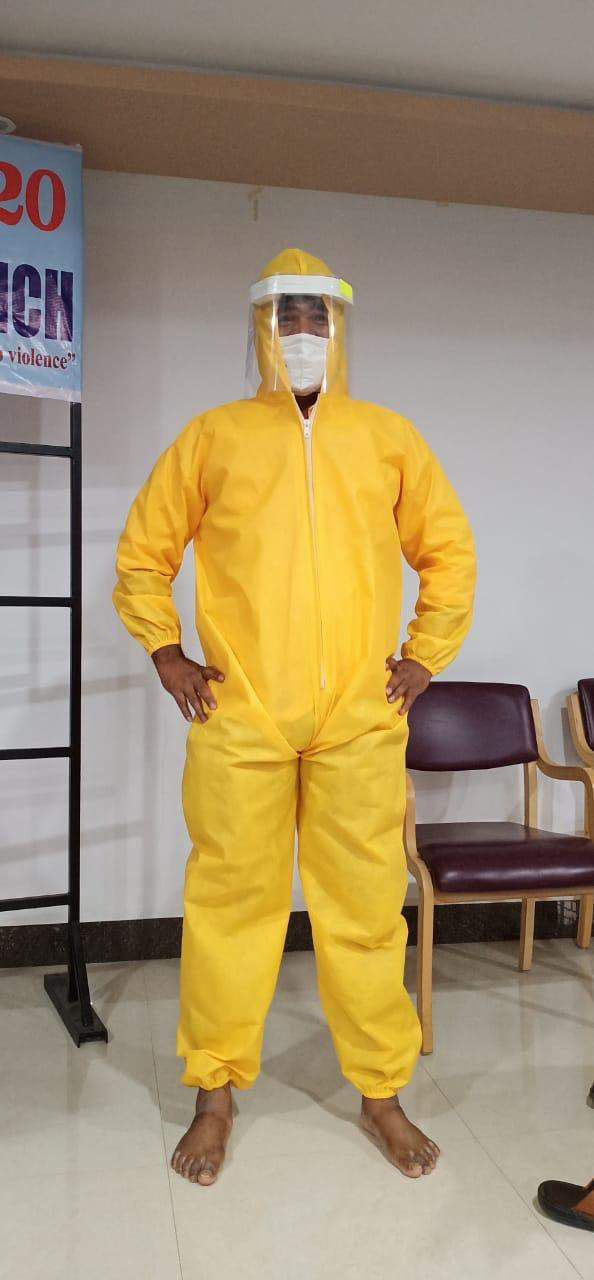Coverall: (116, 248, 469, 1094)
Face_Shield: (241, 271, 351, 402)
with_mask: (278, 314, 333, 385)
